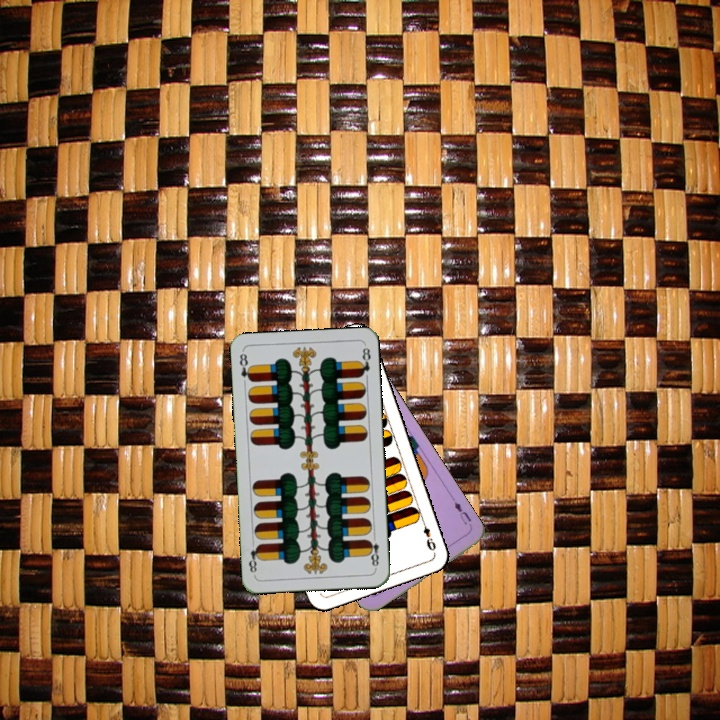E8: (235, 349, 255, 384), (364, 530, 381, 571)
E9: (418, 515, 439, 553)
EU: (448, 494, 474, 527)
